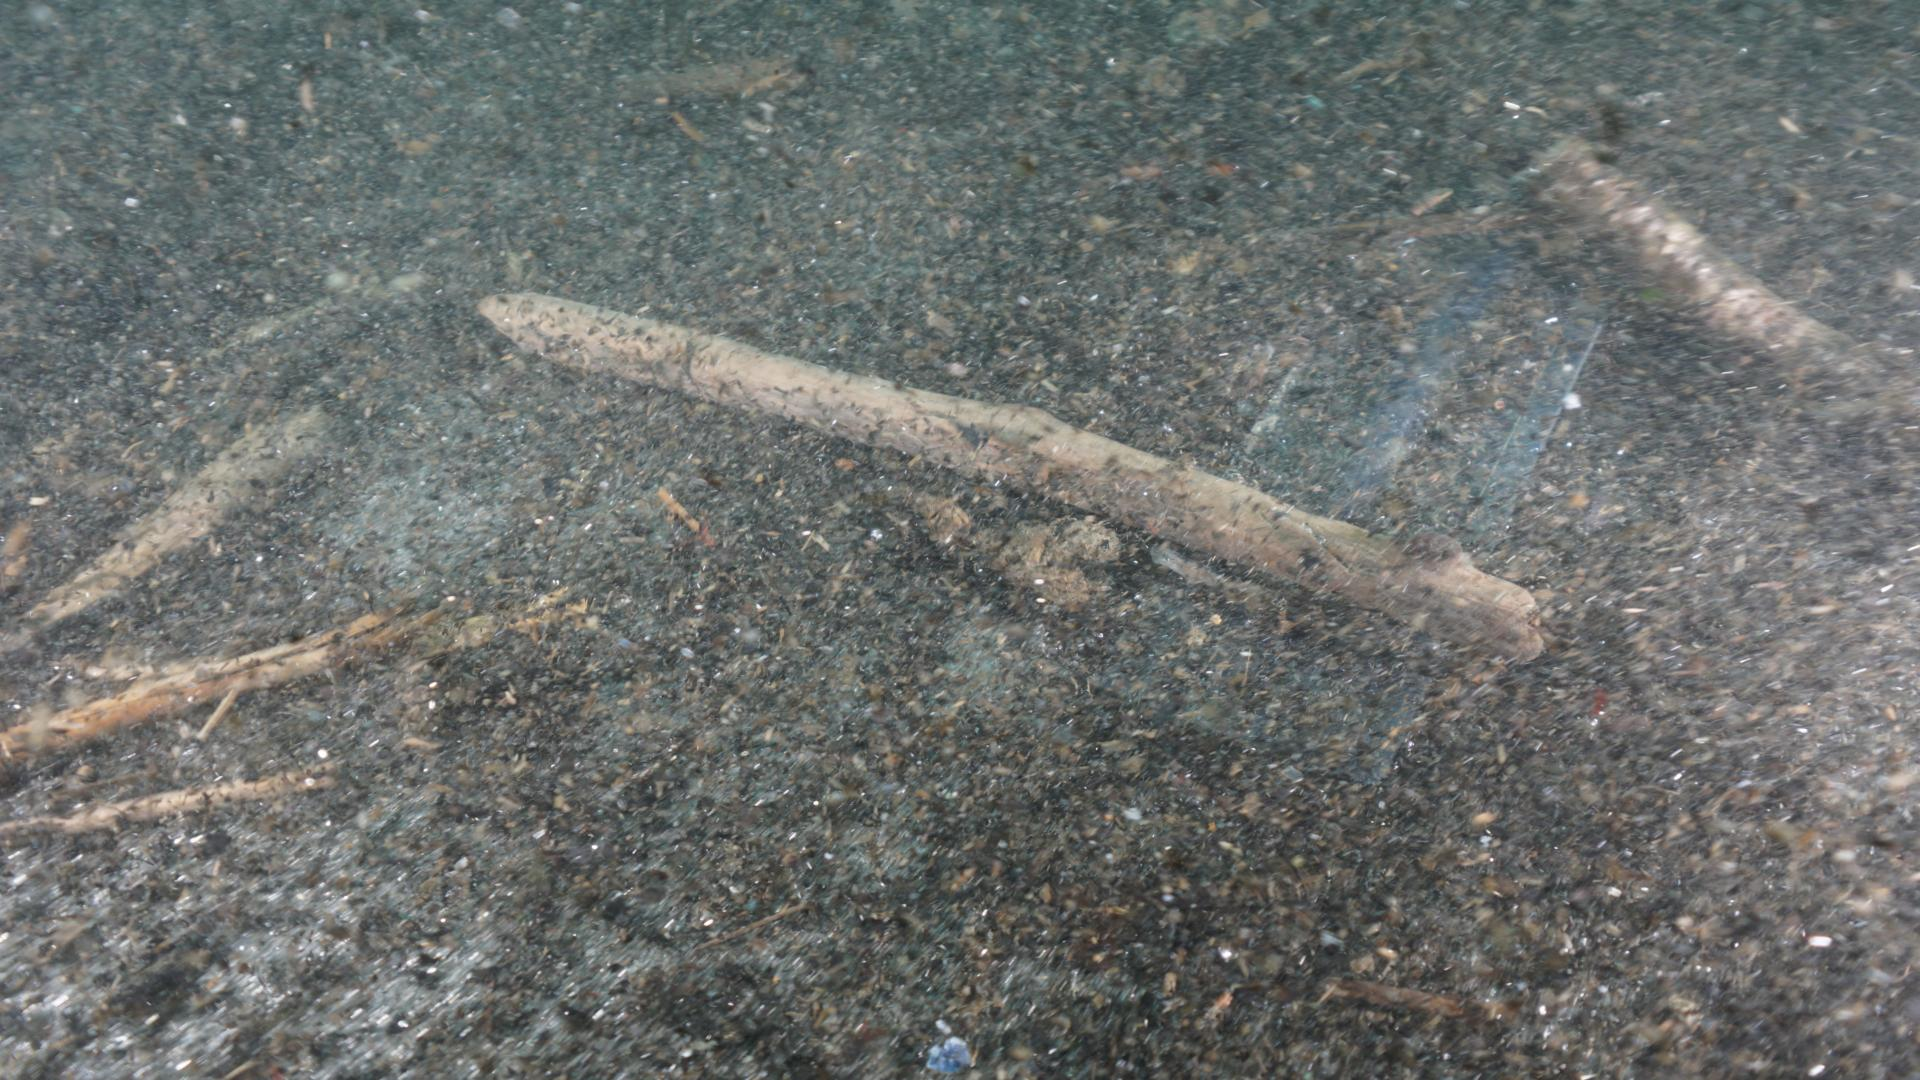wood: (476, 286, 1540, 669), (0, 585, 595, 786), (0, 401, 340, 670), (1519, 137, 1855, 375)
